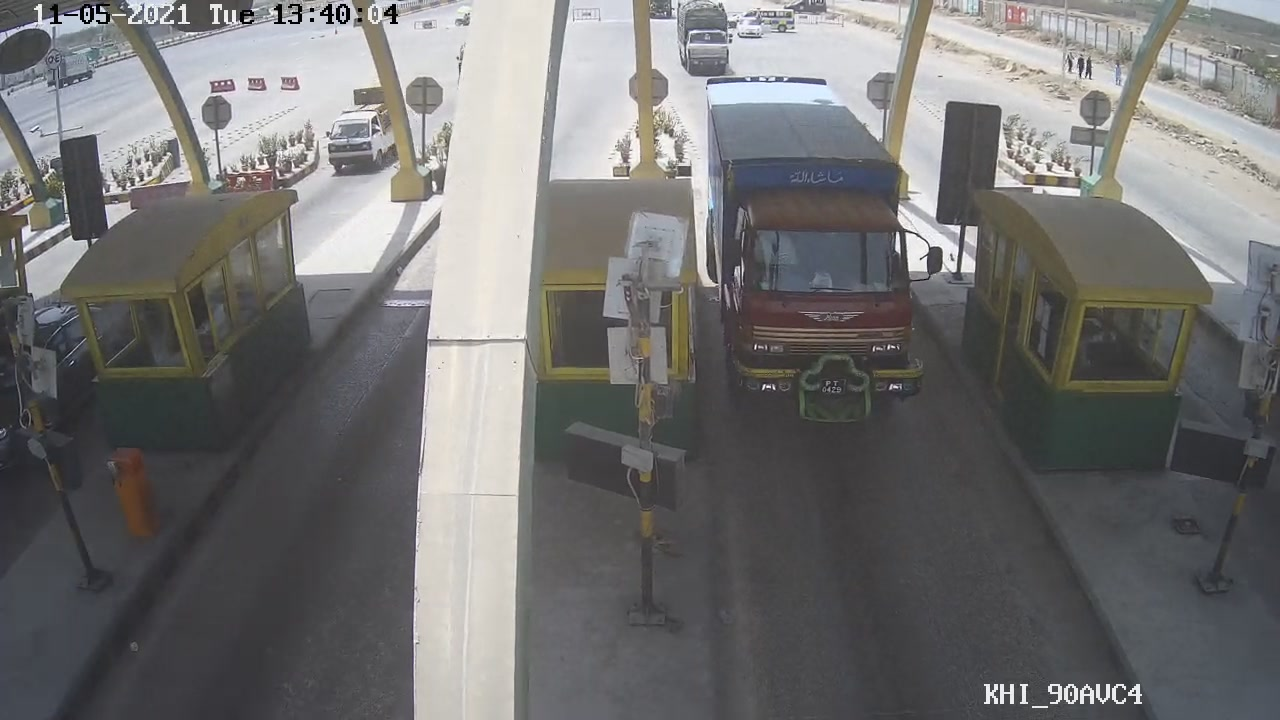F3: (694, 71, 957, 431)
